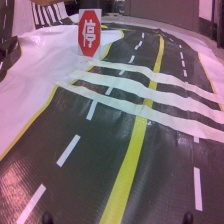stop: (78, 6, 102, 61)
